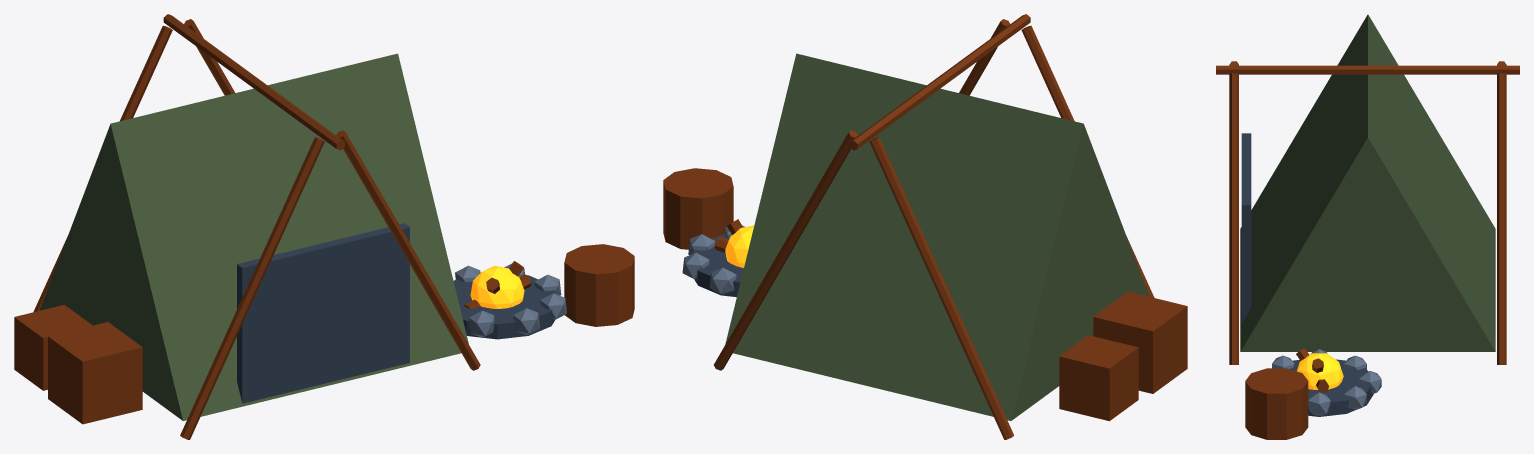
Rendered from campamento.glb.
3 renders of one model, left to right at view 1: azimuth 30°, elevation 25°; view 2: azimuth 150°, elevation 25°; view 3: azimuth 270°, elevation 25°, orthographic. The views are drawn at different scales.
Parts seen in each view (by area): view 1: Tienda_Lona, Cube, Cube.001, Cylinder.009, Cylinder, Cube.002, Cylinder.001, Cylinder.005, Cylinder.004, Icosphere.008, Cylinder.002, Cylinder.003; view 2: Tienda_Lona, Cube.001, Cube.002, Cylinder.009, Cylinder.002, Cylinder.003, Cylinder.004, Cylinder, Cylinder.005, Icosphere.008, Cylinder.001, Icosphere.002; view 3: Tienda_Lona, Cylinder.009, Cylinder.004, Cylinder.001, Cylinder.003, Cube, Cylinder.005, Icosphere.008, Icosphere, Icosphere.001, Icosphere.002.
Boxes of the visible parts, x1,y1,x2,y2 form: Tienda_Lona: [39, 53, 468, 420]; Cube: [237, 223, 409, 403]; Cube.001: [48, 322, 142, 424]; Cylinder.009: [564, 244, 634, 326]; Cylinder: [180, 137, 324, 439]; Cube.002: [14, 305, 92, 390]; Cylinder.001: [336, 130, 480, 370]; Cylinder.005: [453, 275, 557, 339]; Cylinder.004: [163, 14, 344, 150]; Icosphere.008: [470, 265, 524, 308]; Cylinder.002: [33, 25, 172, 312]; Cylinder.003: [184, 19, 234, 95]; Tienda_Lona: [725, 53, 1149, 420]; Cube.001: [1093, 291, 1187, 393]; Cube.002: [1059, 335, 1138, 421]; Cylinder.009: [663, 168, 733, 249]; Cylinder.002: [869, 137, 1013, 439]; Cylinder.003: [714, 130, 857, 370]; Cylinder.004: [849, 14, 1030, 150]; Cylinder: [1021, 25, 1154, 297]; Cylinder.005: [692, 234, 743, 297]; Icosphere.008: [725, 225, 754, 267]; Cylinder.001: [959, 19, 1009, 95]; Icosphere.002: [709, 267, 736, 294]; Tienda_Lona: [1240, 14, 1495, 351]; Cylinder.009: [1245, 368, 1308, 439]; Cylinder.004: [1216, 65, 1519, 74]; Cylinder.001: [1229, 73, 1238, 364]; Cylinder.003: [1497, 73, 1506, 364]; Cube: [1241, 133, 1251, 323]; Cylinder.005: [1289, 359, 1373, 416]; Icosphere.008: [1297, 353, 1343, 389]; Icosphere: [1308, 392, 1330, 415]; Icosphere.001: [1344, 386, 1366, 409]; Icosphere.002: [1359, 371, 1381, 393].
Size of the model in its own units: 4.45 by 2.25 by 2.5.
